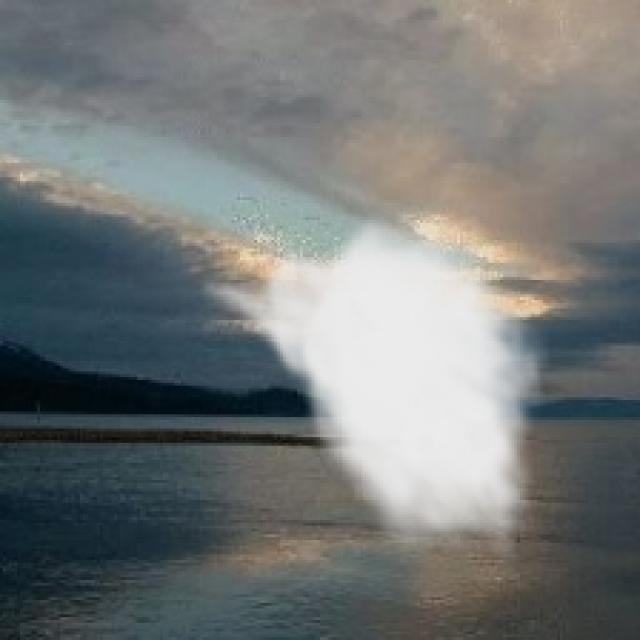Smoke: (194, 206, 552, 568)
